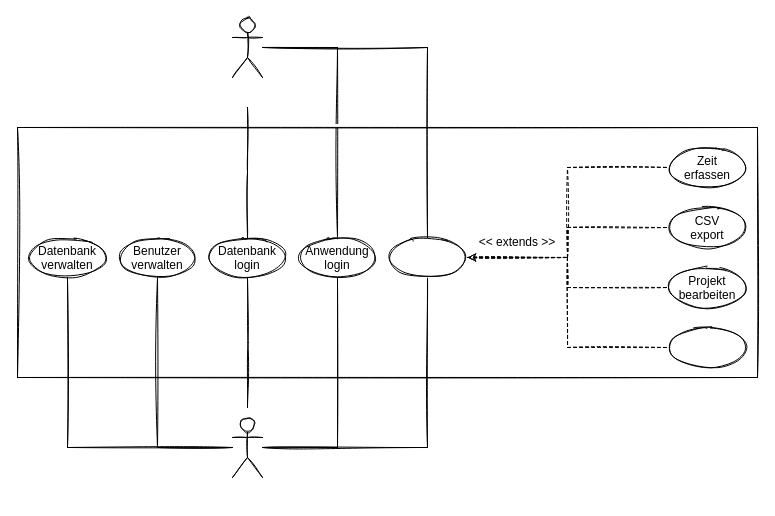
The diagram is 775 pixels wide and 516 high, and some of its shapes have lost their labels. The shapes that lost their labels are listed below. From the top down, each one's box as (x1, y1, x2, y2) in pixels, then its label:
(232, 16, 262, 78): User
(386, 236, 468, 278): Projekte Anzeigen
(666, 326, 748, 368): Projekt anlegen
(232, 416, 262, 478): Admin
